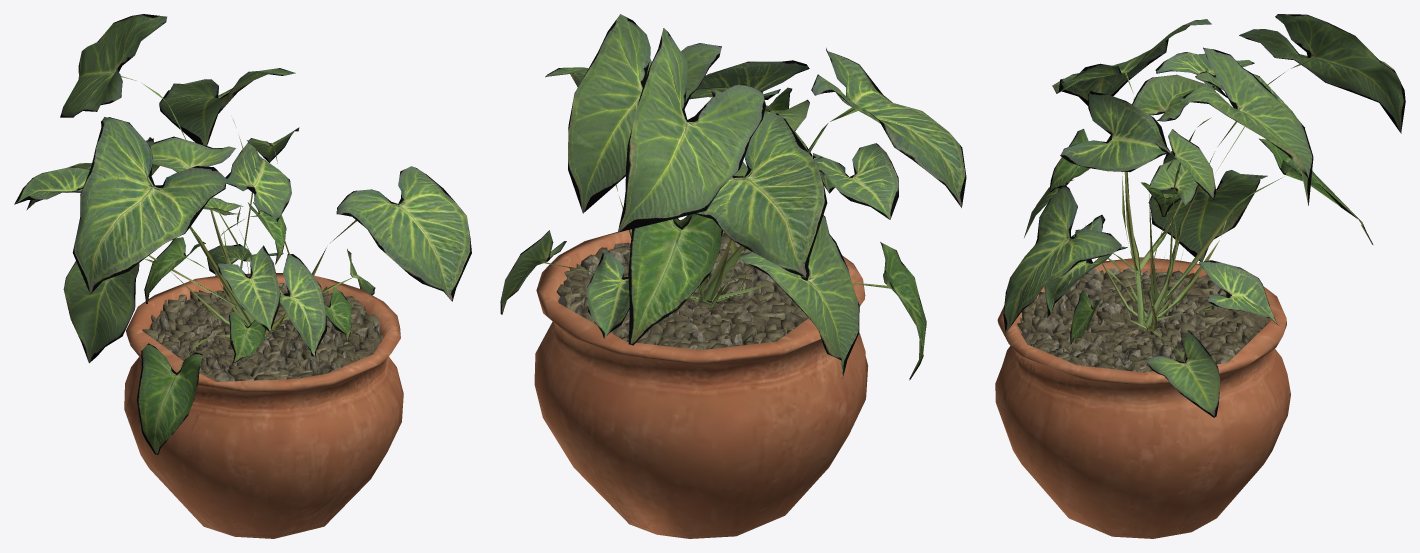
File: potted_plant_02.glb
3 renders of one model, left to right at view 1: azimuth 30°, elevation 25°; view 2: azimuth 150°, elevation 25°; view 3: azimuth 270°, elevation 25°, orthographic. The views are drawn at different scales.
Visible parts, largest first — view 1: potted_plant_02_leaves, potted_plant_02_pot; view 2: potted_plant_02_leaves, potted_plant_02_pot; view 3: potted_plant_02_pot, potted_plant_02_leaves.
Part boxes in pixels (x1,y1,x2,y2): potted_plant_02_leaves: [14, 14, 471, 454]; potted_plant_02_pot: [124, 273, 403, 538]; potted_plant_02_leaves: [500, 14, 966, 380]; potted_plant_02_pot: [534, 229, 868, 538]; potted_plant_02_pot: [995, 257, 1290, 538]; potted_plant_02_leaves: [1003, 14, 1405, 417].
Size of the model in its own units: 0.7009 by 0.8395 by 0.6561.
Materials: 2 (2 with a texture image).
